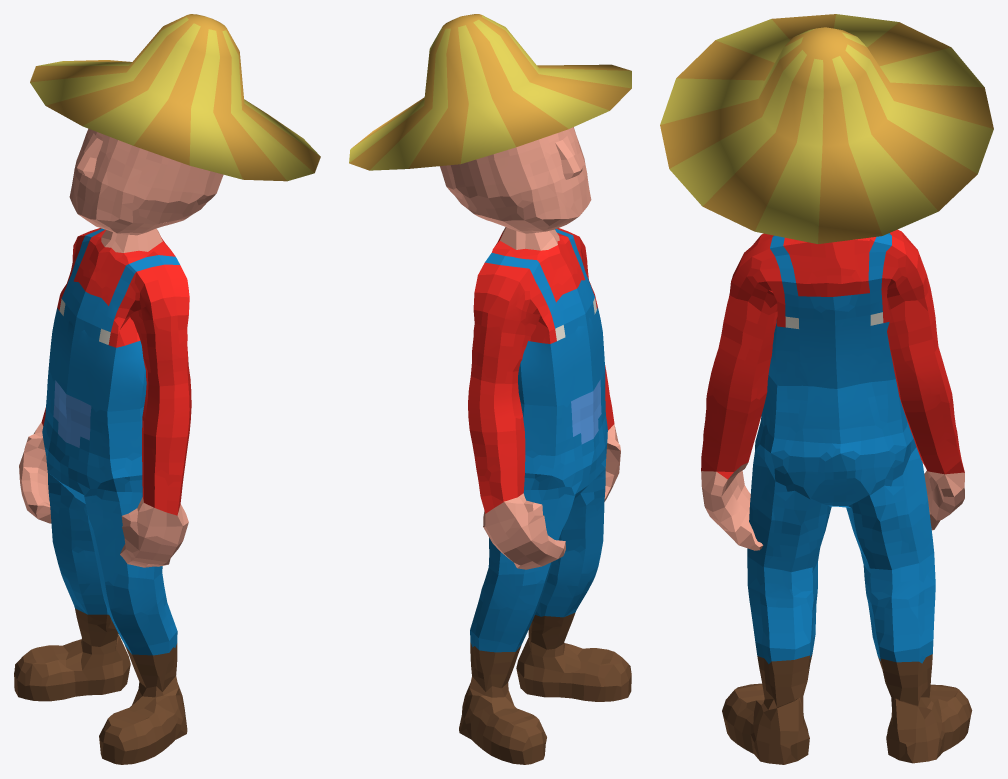
File: NPC_Farmer.obj
The picture shows the model from 3 angles, left to right: view 1: azimuth 30°, elevation 25°; view 2: azimuth 150°, elevation 25°; view 3: azimuth 270°, elevation 25°; orthographic projection. The views are drawn at different scales.
Parts seen in each view (by area): view 1: Humanoide_Base_Humanoide_Base_Base_NPC__characterMedium_f37db32_, hat.001_hat.001_FarmerMaterial_hat.001_hat.001_FarmerMaterialmes, nariz_nariz_nariz_nariz_nariz_1.003_nariz_nariz_nariz_n_be0aad8_; view 2: Humanoide_Base_Humanoide_Base_Base_NPC__characterMedium_f37db32_, hat.001_hat.001_FarmerMaterial_hat.001_hat.001_FarmerMaterialmes, nariz_nariz_nariz_nariz_nariz_1.003_nariz_nariz_nariz_n_be0aad8_; view 3: Humanoide_Base_Humanoide_Base_Base_NPC__characterMedium_f37db32_, hat.001_hat.001_FarmerMaterial_hat.001_hat.001_FarmerMaterialmes.
Part boxes in pixels (x1,y1,x2,y2): Humanoide_Base_Humanoide_Base_Base_NPC__characterMedium_f37db32_: (14, 128, 223, 764); hat.001_hat.001_FarmerMaterial_hat.001_hat.001_FarmerMaterialmes: (30, 14, 320, 181); nariz_nariz_nariz_nariz_nariz_1.003_nariz_nariz_nariz_n_be0aad8_: (76, 133, 102, 178); Humanoide_Base_Humanoide_Base_Base_NPC__characterMedium_f37db32_: (440, 127, 631, 764); hat.001_hat.001_FarmerMaterial_hat.001_hat.001_FarmerMaterialmes: (349, 14, 631, 170); nariz_nariz_nariz_nariz_nariz_1.003_nariz_nariz_nariz_n_be0aad8_: (555, 136, 582, 179); Humanoide_Base_Humanoide_Base_Base_NPC__characterMedium_f37db32_: (701, 229, 972, 764); hat.001_hat.001_FarmerMaterial_hat.001_hat.001_FarmerMaterialmes: (660, 14, 993, 244).
Bounding box in the file's own units: 15.62 × 40.99 × 16.47.
